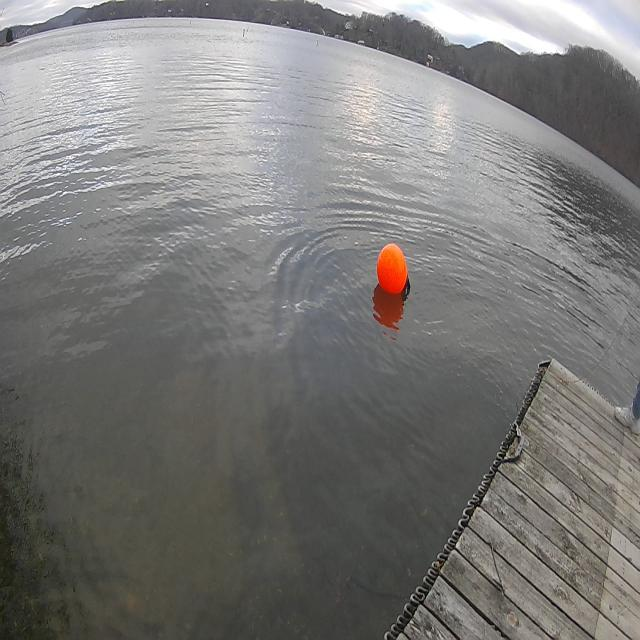Buoy: (375, 240, 411, 312)
